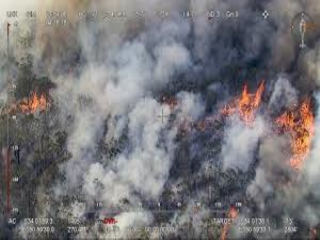fire: (276, 101, 316, 169), (226, 84, 267, 125), (15, 85, 50, 116)
smoke: (56, 31, 209, 225), (221, 127, 276, 198), (257, 67, 304, 110)
